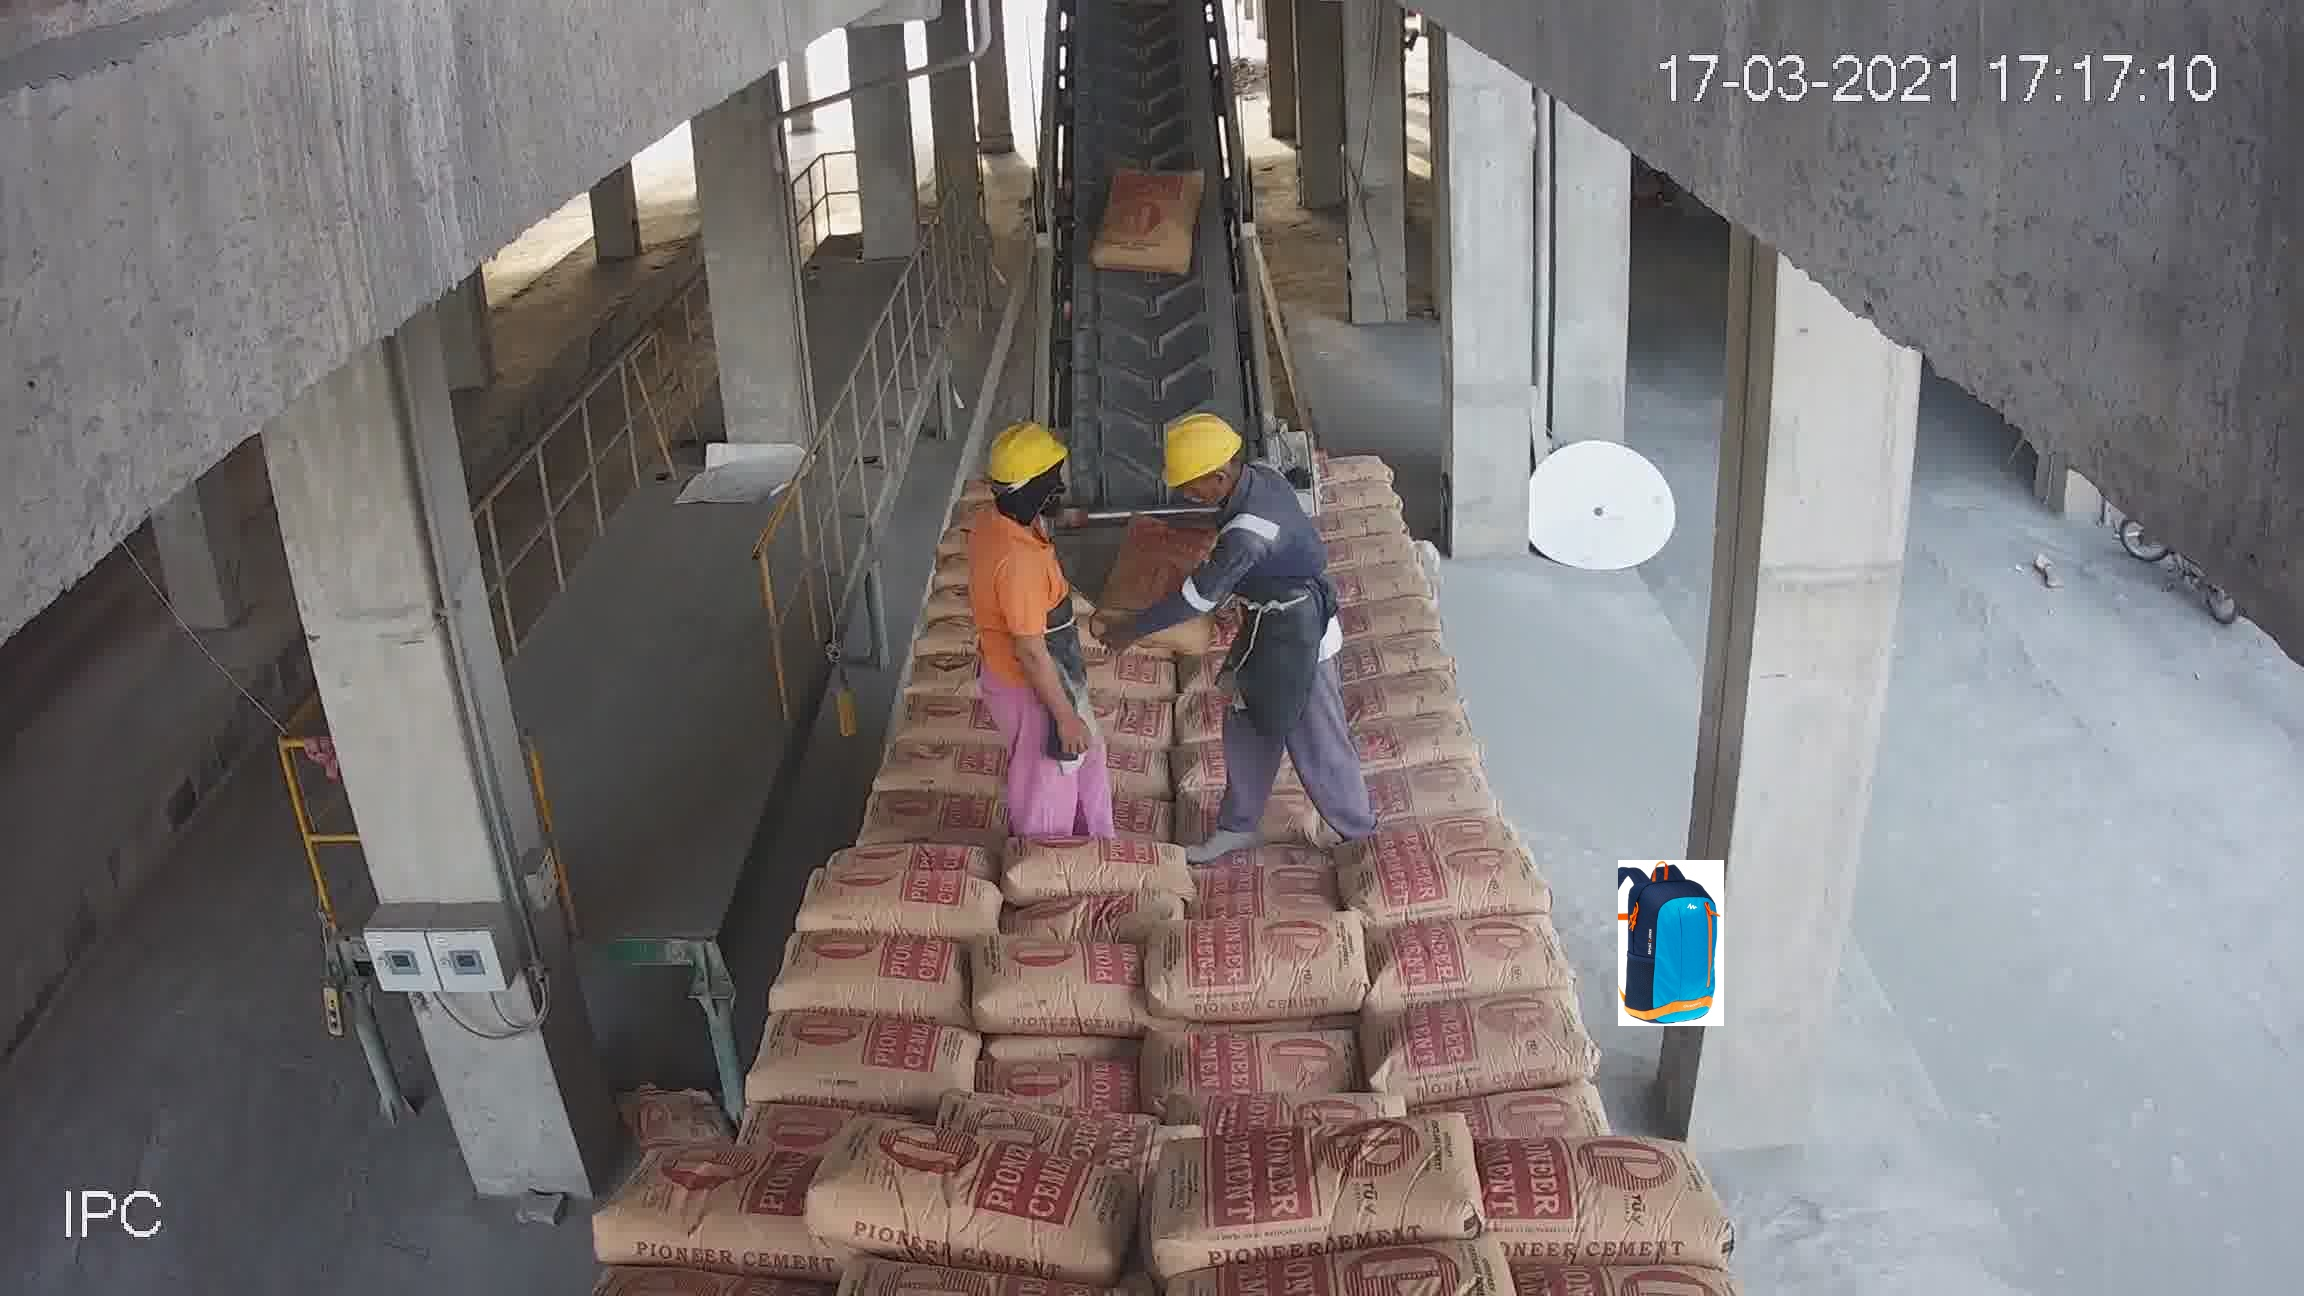bag: (1098, 165, 1206, 275)
bag_h: (802, 1116, 1135, 1280), (1155, 1116, 1483, 1271), (1446, 1131, 1742, 1253), (584, 1141, 817, 1271), (1347, 987, 1605, 1097), (745, 1011, 983, 1116), (1358, 902, 1563, 1019), (1158, 916, 1375, 1027), (1331, 824, 1551, 932), (1139, 1021, 1364, 1108), (794, 855, 1003, 945), (1413, 1060, 1608, 1157), (766, 926, 983, 1010), (970, 937, 1146, 1038), (1002, 831, 1201, 908), (984, 915, 1150, 983), (1193, 826, 1362, 892), (1366, 758, 1495, 832), (839, 817, 976, 877), (858, 801, 999, 855), (1074, 641, 1188, 703), (1367, 753, 1486, 812), (1366, 709, 1489, 764), (872, 744, 995, 794), (1310, 559, 1427, 611), (1334, 589, 1435, 646), (1317, 521, 1431, 571), (1342, 661, 1456, 711), (1342, 623, 1446, 676), (1090, 685, 1176, 747), (1315, 473, 1408, 514), (1324, 446, 1393, 491)
belt: (1040, 38, 1266, 585)
